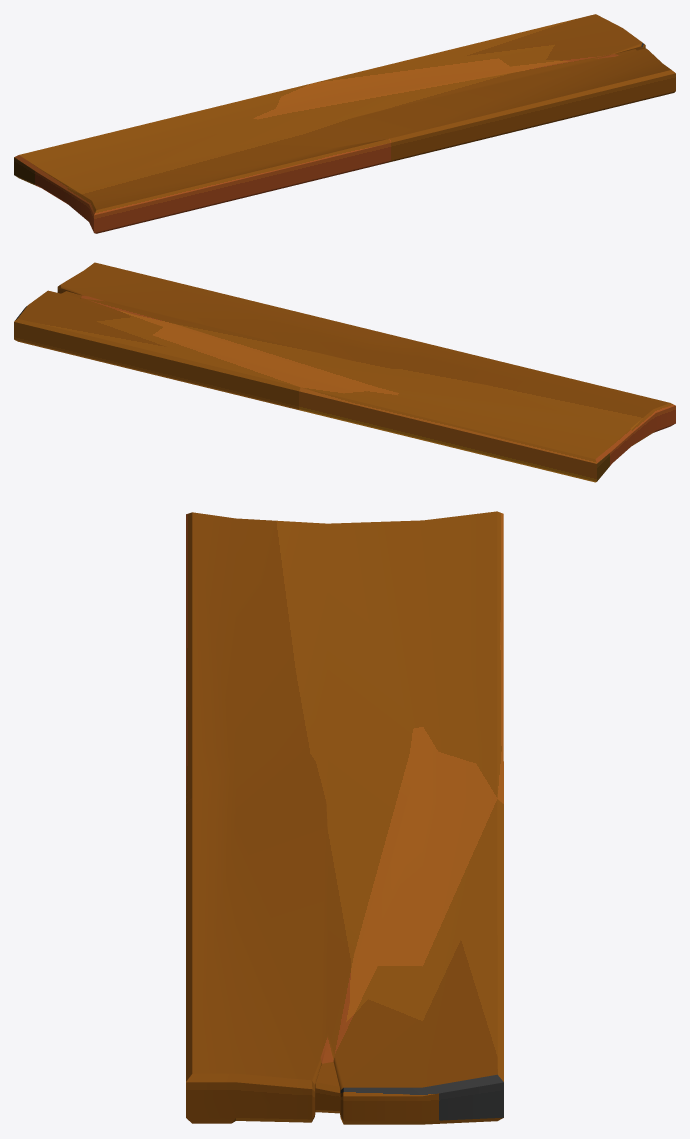
The model's file is SM_WoodPlank3.fbx.
The picture shows the model from 3 angles, top to bottom: view 1: azimuth 30°, elevation 25°; view 2: azimuth 150°, elevation 25°; view 3: azimuth 270°, elevation 25°; orthographic projection. The views are drawn at different scales.
Parts seen in each view (by area): view 1: SM_WoodPlank3; view 2: SM_WoodPlank3; view 3: SM_WoodPlank3.
Boxes of the visible parts, <box> form: SM_WoodPlank3: <box>14,14,675,233</box>; SM_WoodPlank3: <box>14,262,675,482</box>; SM_WoodPlank3: <box>186,511,503,1124</box>.
Bounding box in the file's own units: 187 × 7.14 × 43.48.
